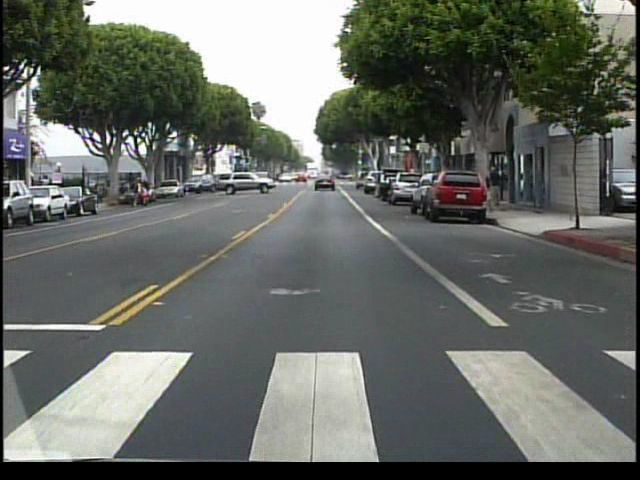person: (485, 167, 506, 214), (133, 178, 151, 209)
